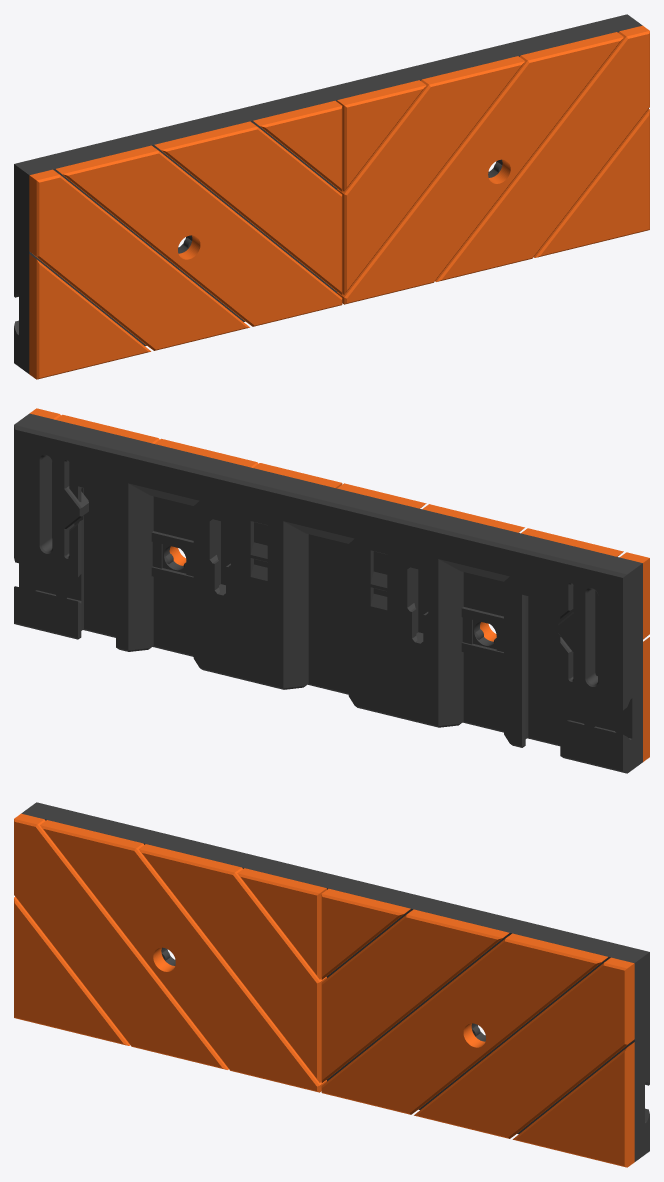
File: Faceplate_Chevron_1W-05H.lib.glb
The picture shows the model from 3 angles, top to bottom: view 1: azimuth 30°, elevation 25°; view 2: azimuth 150°, elevation 25°; view 3: azimuth 330°, elevation 25°; orthographic projection.
Visible parts, largest first — view 1: Faceplate_Chevron_1W-05H; view 2: Faceplate_Chevron_1W-05H; view 3: Faceplate_Chevron_1W-05H.
Part boxes in pixels (x1=…): Faceplate_Chevron_1W-05H: x1=14, y1=14, x2=649, y2=379; Faceplate_Chevron_1W-05H: x1=14, y1=408, x2=649, y2=773; Faceplate_Chevron_1W-05H: x1=14, y1=802, x2=649, y2=1167.
Size of the model in its own units: 87 by 27 by 6.2.
